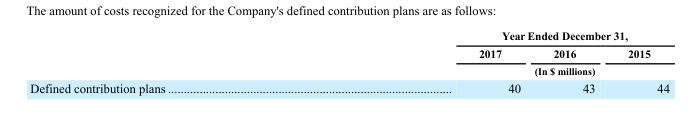table: (29, 29, 668, 94)
table column: (29, 29, 321, 94), (321, 29, 536, 94), (536, 29, 610, 94), (610, 29, 668, 94)
table column header: (29, 29, 668, 78)
table row: (29, 44, 668, 62), (29, 62, 668, 78), (29, 78, 668, 94), (29, 29, 668, 44)
table spanning cell: (321, 62, 668, 78), (321, 29, 668, 44)
